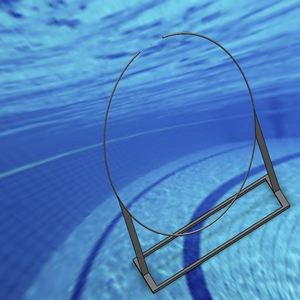circle: (102, 26, 292, 292)
